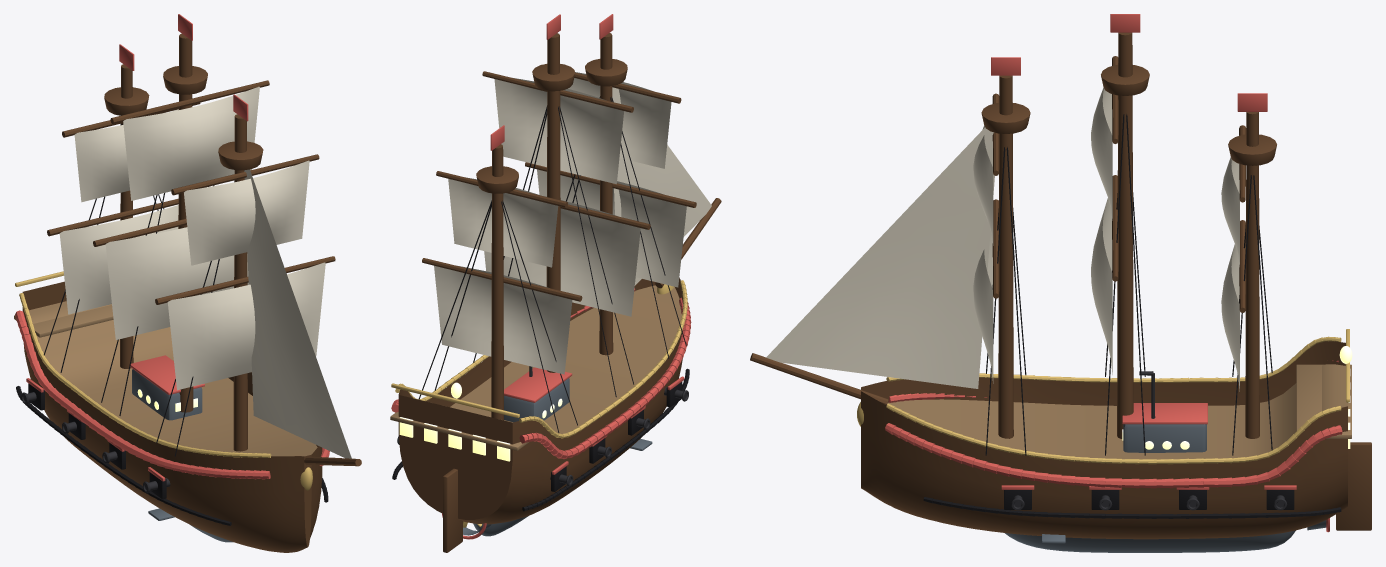
The model's file is shaddai_naval_v01.glb.
3 renders of one model, left to right at view 1: azimuth 30°, elevation 25°; view 2: azimuth 150°, elevation 25°; view 3: azimuth 270°, elevation 25°, orthographic. The views are drawn at different scales.
Parts seen in each view (by area): view 1: naval_galleon, naval_nautilus; view 2: naval_galleon, naval_nautilus; view 3: naval_galleon, naval_nautilus.
Part boxes in pixels (x1,y1,x2,y2): naval_galleon: (14,14,361,552); naval_nautilus: (129,355,233,542); naval_galleon: (390,14,721,552); naval_nautilus: (442,366,652,539); naval_galleon: (750,14,1371,539); naval_nautilus: (1005,371,1329,552).
Bounding box in the file's own units: 6 × 14.9 × 15.64.
